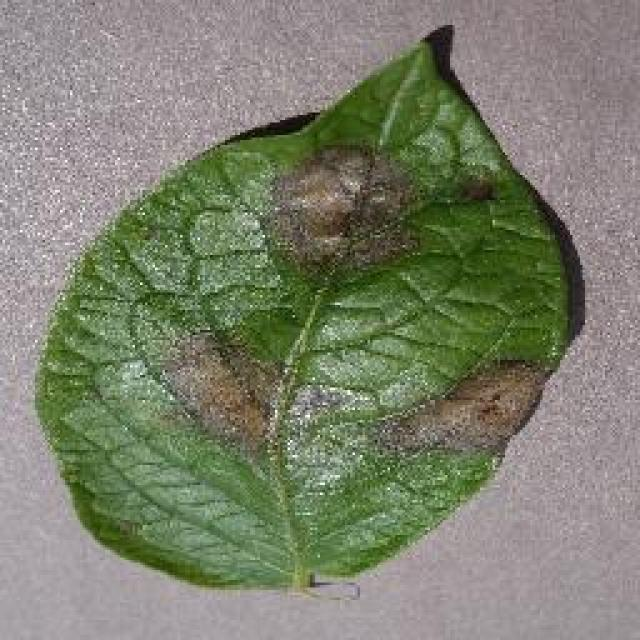late_blight: (30, 20, 588, 598)
